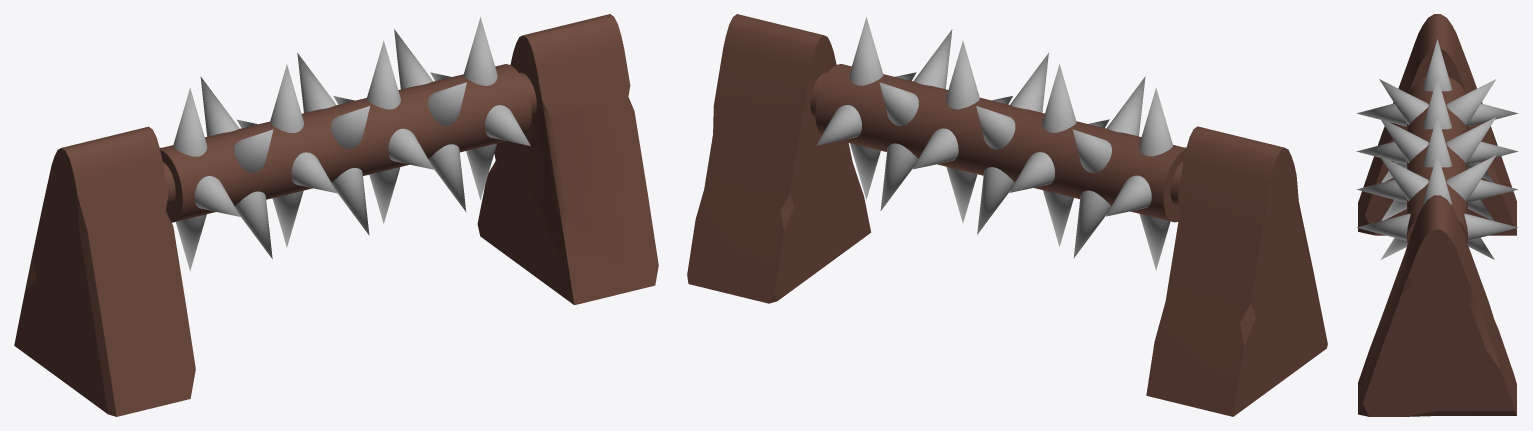
The model's file is Rotating_spikes.fbx.
3 renders of one model, left to right at view 1: azimuth 30°, elevation 25°; view 2: azimuth 150°, elevation 25°; view 3: azimuth 270°, elevation 25°, orthographic. The views are drawn at different scales.
Visible parts, largest first — view 1: Spikes, Left, Right; view 2: Spikes, Left, Right; view 3: Right, Spikes, Left.
Part boxes in pixels (x1,y1,x2,y2): Spikes: (159,17,531,271); Left: (14,126,195,416); Right: (477,14,658,305); Spikes: (815,17,1186,270); Left: (1146,126,1327,416); Right: (687,14,871,303); Right: (1358,195,1516,416); Spikes: (1356,39,1518,259); Left: (1358,14,1516,235).
Bounding box in the file's own units: 91.32 × 41.9 × 29.1.
